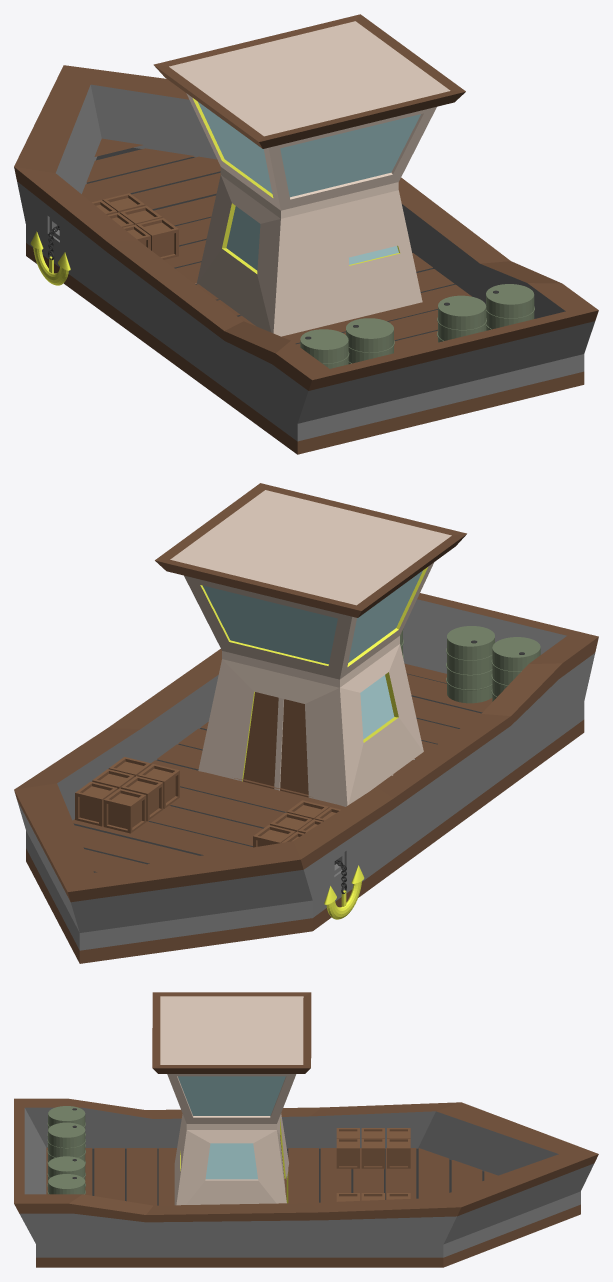
File: Boat_Beginer.fbx
The picture shows the model from 3 angles, top to bottom: view 1: azimuth 30°, elevation 25°; view 2: azimuth 150°, elevation 25°; view 3: azimuth 270°, elevation 25°; orthographic projection. The views are drawn at different scales.
Parts seen in each view (by area): view 1: Plane; view 2: Plane; view 3: Plane.
Boxes of the visible parts, box(x1,y1,x2,y2) form: Plane: box(14, 14, 598, 454); Plane: box(14, 483, 598, 963); Plane: box(14, 992, 598, 1267).
Bounding box in the file's own units: 653 × 535 × 1501.
